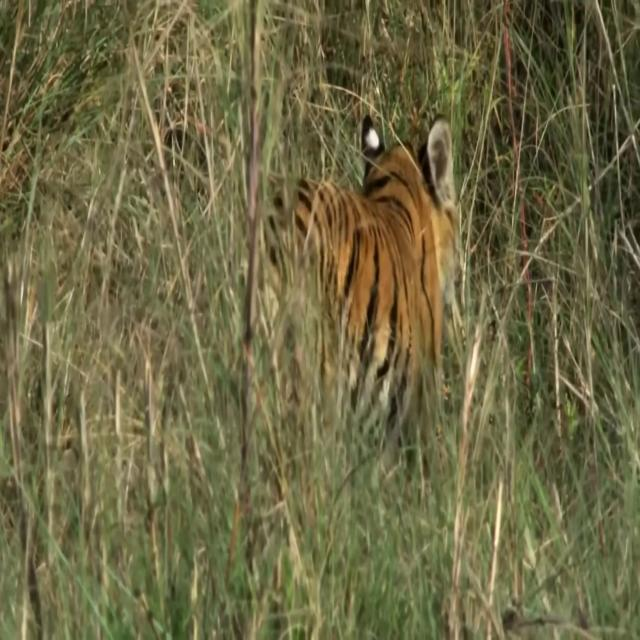tiger: (250, 110, 461, 484)
